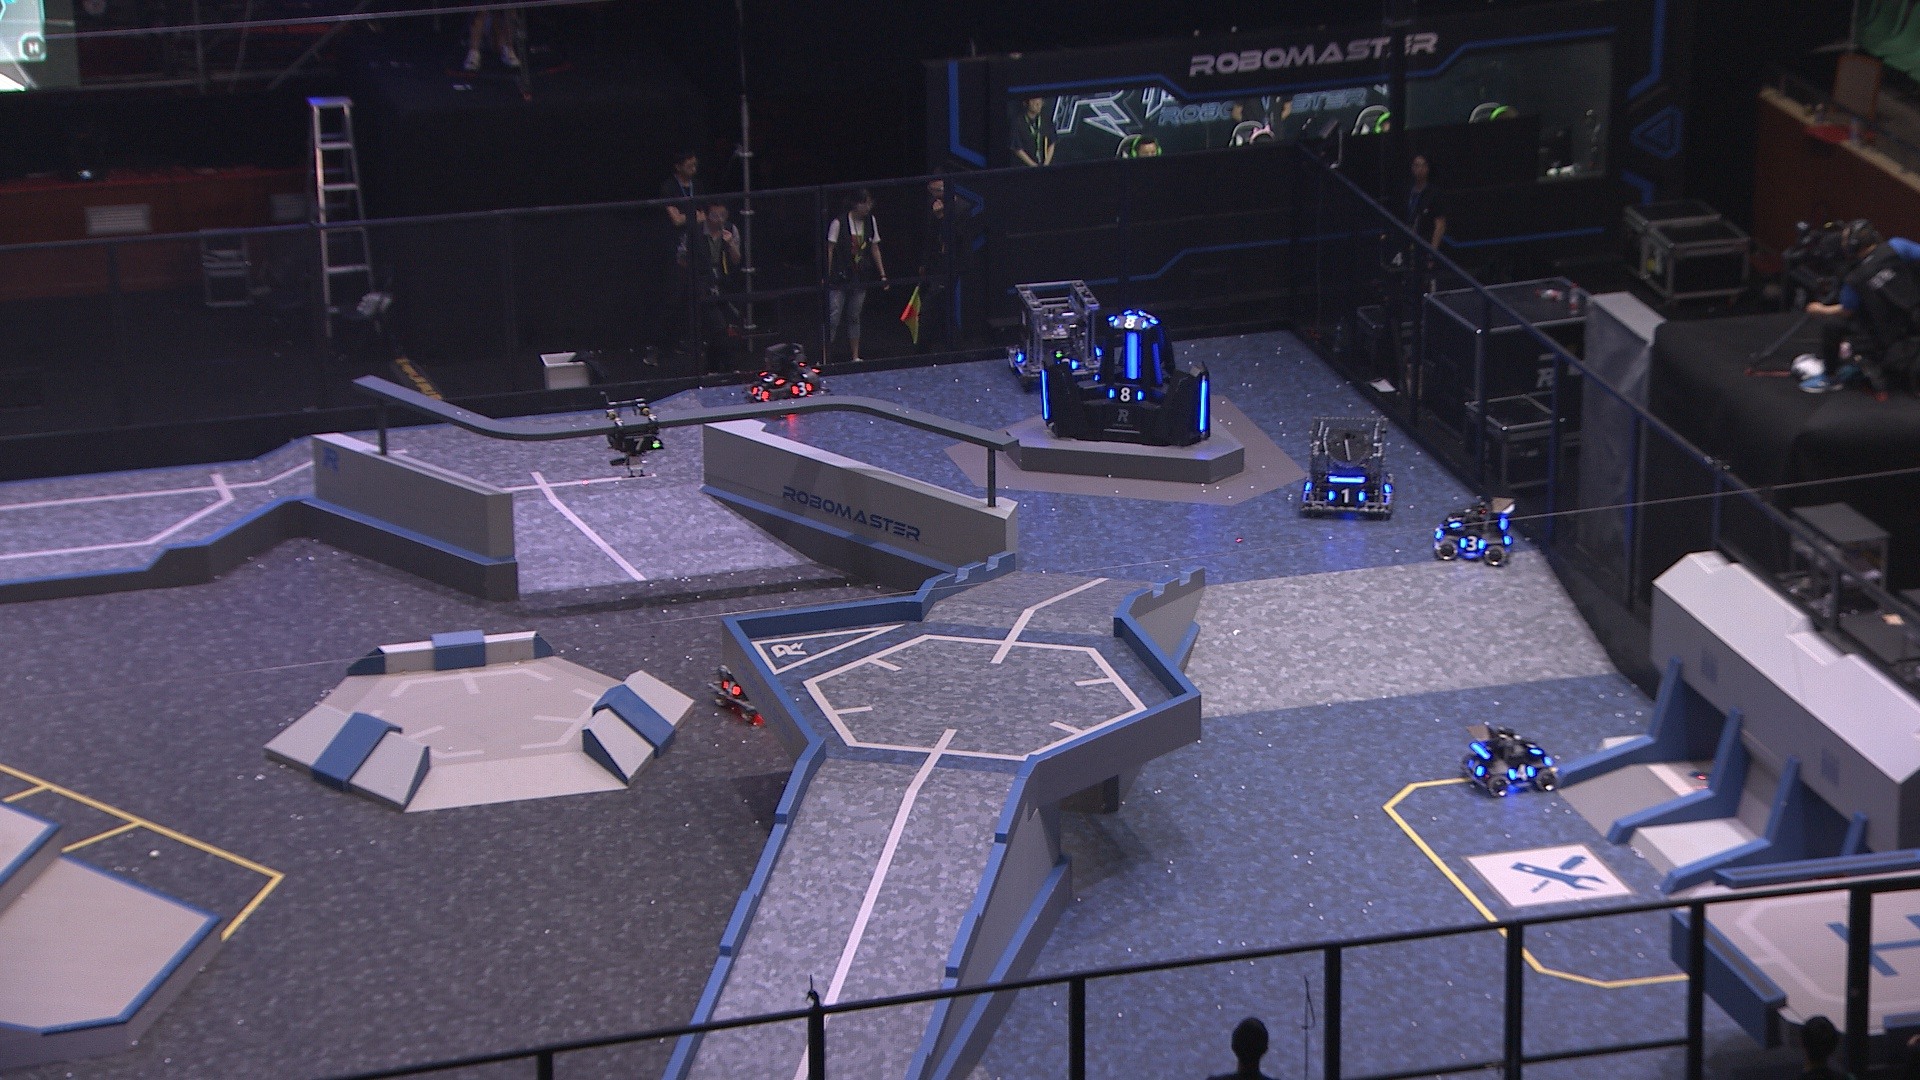armor: (1122, 332, 1145, 377), (1195, 378, 1212, 436), (1036, 367, 1051, 425), (1106, 385, 1147, 405), (618, 434, 659, 454), (1505, 760, 1538, 782), (1112, 313, 1149, 332), (1327, 489, 1367, 506), (1460, 533, 1489, 553), (756, 367, 785, 386), (1054, 353, 1081, 371), (789, 380, 814, 398), (1466, 756, 1487, 777), (721, 678, 741, 699), (1524, 740, 1544, 760), (1379, 473, 1396, 496), (1447, 512, 1465, 531), (1138, 309, 1160, 324), (749, 382, 767, 401), (1433, 520, 1447, 545), (1011, 345, 1025, 365)
base: (1033, 302, 1215, 450)
car: (1296, 409, 1400, 520), (1006, 278, 1110, 389), (1460, 721, 1557, 799), (1428, 491, 1518, 568), (745, 338, 831, 410), (708, 659, 789, 721)
watcher: (600, 390, 665, 476)
